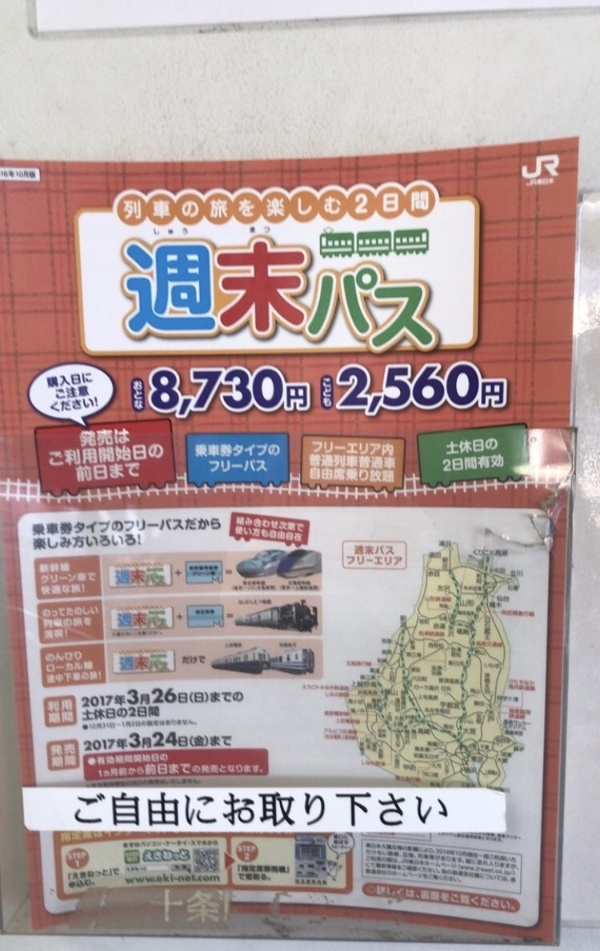text: (353, 532, 368, 798), (369, 532, 384, 798), (385, 532, 400, 798), (401, 532, 416, 798), (417, 532, 432, 798), (433, 532, 448, 798), (449, 532, 464, 798), (465, 532, 480, 798), (481, 532, 496, 798), (497, 532, 512, 798), (513, 532, 528, 798), (529, 532, 544, 798), (342, 532, 352, 798), (129, 242, 144, 333), (145, 242, 160, 333), (161, 242, 176, 333), (177, 242, 192, 333), (193, 242, 208, 333), (209, 242, 224, 333), (225, 242, 240, 333), (241, 242, 256, 333), (257, 242, 272, 333), (273, 242, 288, 333), (289, 242, 304, 333), (337, 267, 352, 349), (353, 267, 368, 349), (369, 267, 384, 349), (385, 267, 400, 349), (401, 267, 416, 349), (417, 267, 432, 349), (369, 836, 384, 914), (385, 836, 400, 914), (401, 836, 416, 914), (417, 836, 432, 914), (433, 836, 448, 914), (449, 836, 464, 914), (465, 836, 480, 914), (481, 836, 496, 914), (497, 836, 512, 914), (325, 267, 336, 349), (65, 834, 80, 891), (81, 834, 96, 891), (97, 834, 112, 891), (113, 834, 128, 891), (129, 834, 144, 891), (145, 834, 160, 891), (161, 834, 176, 891), (177, 834, 192, 891), (193, 834, 208, 891), (337, 836, 353, 888), (241, 836, 256, 888), (257, 836, 272, 888), (273, 836, 288, 888), (289, 836, 304, 888), (305, 836, 320, 888), (321, 836, 336, 888), (353, 364, 368, 415), (369, 364, 384, 415), (385, 364, 400, 415), (401, 364, 416, 415), (417, 364, 432, 415), (433, 364, 448, 415), (449, 364, 464, 415), (465, 364, 480, 415), (481, 364, 496, 415), (161, 369, 176, 417), (177, 369, 192, 417), (193, 369, 208, 417), (209, 369, 224, 417), (225, 369, 240, 417), (241, 369, 256, 417), (257, 369, 272, 417), (273, 369, 288, 417), (289, 369, 304, 417), (209, 834, 221, 891), (340, 364, 352, 415), (433, 795, 449, 830), (81, 795, 96, 830), (97, 795, 112, 830), (113, 795, 128, 830), (129, 795, 144, 830), (145, 795, 160, 830), (161, 795, 176, 830), (177, 795, 192, 830), (193, 795, 208, 830), (209, 795, 224, 830), (225, 795, 240, 830), (241, 795, 256, 830), (257, 795, 272, 830), (273, 795, 288, 830), (289, 795, 304, 830), (305, 795, 320, 830), (321, 795, 336, 830), (337, 795, 352, 830), (353, 795, 368, 830), (369, 795, 384, 830), (385, 795, 400, 830), (401, 795, 416, 830), (417, 795, 432, 830), (161, 889, 176, 924), (177, 889, 192, 924), (193, 889, 208, 924), (209, 889, 224, 924), (513, 836, 519, 914), (129, 192, 144, 221), (145, 192, 160, 221), (161, 192, 176, 221), (177, 192, 192, 221), (193, 192, 208, 221), (209, 192, 224, 221), (225, 192, 240, 221), (241, 192, 256, 221), (257, 192, 272, 221), (273, 192, 288, 221), (289, 192, 304, 221), (305, 192, 320, 221), (321, 192, 336, 221), (337, 192, 352, 221), (353, 192, 368, 221), (369, 192, 384, 221), (385, 192, 400, 221), (401, 192, 416, 221), (497, 364, 505, 415), (323, 378, 336, 408), (529, 156, 544, 180), (545, 156, 560, 180), (49, 444, 64, 468), (65, 444, 80, 468), (81, 444, 96, 468), (97, 444, 112, 468), (113, 444, 128, 468), (129, 444, 144, 468), (145, 444, 160, 468), (81, 684, 96, 708), (97, 684, 112, 708), (113, 684, 128, 708), (129, 684, 144, 708), (145, 684, 160, 708), (161, 684, 176, 708), (177, 684, 192, 708), (193, 684, 208, 708), (209, 684, 224, 708), (225, 684, 240, 708), (417, 192, 429, 221), (97, 729, 112, 752), (113, 729, 128, 752), (129, 729, 144, 752), (145, 729, 160, 752), (161, 729, 176, 752), (177, 729, 192, 752), (193, 729, 208, 752), (209, 729, 224, 752), (153, 369, 160, 417), (133, 380, 144, 410), (81, 462, 96, 484), (97, 462, 112, 484), (113, 462, 128, 484), (151, 889, 160, 924), (81, 428, 96, 448), (97, 428, 112, 448), (113, 428, 128, 448), (84, 729, 96, 752), (321, 453, 336, 471), (337, 453, 352, 471), (353, 453, 368, 471), (369, 453, 384, 471), (449, 438, 464, 456), (465, 438, 480, 456), (481, 438, 496, 456), (449, 454, 464, 472), (465, 454, 480, 472), (481, 454, 496, 472), (65, 396, 80, 413), (81, 396, 96, 413), (321, 467, 336, 484), (337, 467, 352, 484), (353, 467, 368, 484), (369, 467, 384, 484), (33, 519, 48, 536), (49, 519, 64, 536), (65, 519, 80, 536), (81, 519, 96, 536), (97, 519, 112, 536), (113, 519, 128, 536), (129, 519, 144, 536), (145, 519, 160, 536), (161, 519, 176, 536), (177, 519, 192, 536), (193, 519, 208, 536), (129, 462, 140, 484), (49, 373, 64, 389), (65, 373, 80, 389), (321, 441, 336, 457), (337, 441, 352, 457), (353, 441, 368, 457), (369, 441, 384, 457), (33, 536, 48, 552), (49, 536, 64, 552), (65, 536, 80, 552), (81, 536, 96, 552), (97, 536, 112, 552), (113, 536, 128, 552), (97, 705, 112, 721), (113, 705, 128, 721), (129, 705, 144, 721), (145, 705, 160, 721), (113, 761, 128, 777), (129, 761, 144, 777), (145, 761, 160, 777), (161, 761, 176, 777), (177, 761, 192, 777), (193, 761, 208, 777), (209, 761, 224, 777), (225, 761, 240, 777), (241, 761, 256, 777), (129, 569, 145, 584), (129, 612, 144, 628), (129, 656, 144, 672), (65, 385, 80, 400), (209, 444, 224, 459), (225, 444, 240, 459), (241, 444, 256, 459), (257, 444, 272, 459), (97, 752, 112, 767), (113, 752, 128, 767), (129, 752, 144, 767), (145, 752, 160, 767), (51, 396, 64, 413), (225, 889, 231, 924), (83, 705, 96, 721), (99, 761, 112, 777), (209, 519, 221, 536), (309, 453, 320, 471), (385, 453, 396, 471), (146, 572, 160, 586), (195, 444, 208, 459), (209, 460, 224, 473), (225, 460, 240, 473), (241, 460, 256, 473), (49, 572, 64, 585), (65, 572, 80, 585), (81, 572, 96, 585), (49, 583, 64, 596), (65, 583, 80, 596), (49, 616, 64, 629), (65, 616, 80, 629), (49, 700, 64, 713), (81, 373, 93, 389), (129, 536, 141, 552), (126, 242, 128, 333), (49, 606, 64, 618), (65, 606, 80, 618), (81, 606, 96, 618), (49, 661, 64, 673), (65, 661, 80, 673), (49, 672, 64, 684), (65, 672, 80, 684), (81, 672, 96, 684), (49, 712, 64, 724), (116, 569, 128, 584), (193, 564, 208, 576), (241, 580, 256, 592), (257, 580, 272, 592), (117, 612, 128, 628), (61, 834, 64, 891), (310, 467, 320, 484), (51, 743, 64, 756), (529, 177, 544, 188), (49, 629, 64, 640), (97, 720, 112, 731), (113, 720, 128, 731), (129, 720, 144, 731), (145, 720, 160, 731), (161, 720, 176, 731), (177, 720, 192, 731), (369, 544, 384, 555), (225, 729, 232, 752), (237, 836, 240, 888), (82, 720, 96, 731), (354, 544, 368, 555), (1, 170, 16, 180), (17, 170, 32, 180), (49, 564, 64, 574), (49, 652, 64, 662), (65, 652, 80, 662), (289, 580, 304, 590), (353, 556, 368, 566), (369, 556, 384, 566), (385, 556, 400, 566), (305, 369, 308, 417), (81, 661, 93, 673), (52, 756, 64, 768), (65, 756, 77, 768), (81, 616, 92, 629), (65, 743, 76, 756), (305, 580, 319, 590), (385, 467, 393, 484), (81, 385, 90, 400), (149, 616, 160, 628), (257, 460, 267, 473), (161, 659, 171, 672), (385, 441, 393, 457), (120, 656, 128, 672), (497, 454, 504, 472), (523, 156, 528, 180), (56, 385, 64, 400), (88, 752, 96, 767), (161, 752, 169, 767), (177, 613, 192, 621), (241, 598, 256, 606), (257, 598, 272, 606), (151, 659, 160, 672), (124, 192, 128, 221), (313, 441, 320, 457), (257, 761, 264, 777), (545, 177, 555, 188), (75, 462, 80, 484), (209, 564, 218, 576), (193, 655, 205, 664), (273, 444, 280, 459), (77, 795, 80, 830), (65, 700, 73, 713), (385, 544, 394, 555), (65, 712, 73, 724), (161, 616, 169, 628), (305, 242, 306, 333), (41, 572, 48, 585), (41, 583, 48, 596), (443, 454, 448, 472), (182, 655, 192, 664), (225, 569, 240, 575), (225, 642, 240, 648), (161, 572, 167, 586), (233, 580, 240, 592), (433, 267, 434, 349), (40, 564, 48, 574), (280, 580, 288, 590), (367, 836, 368, 914), (161, 444, 164, 468), (42, 606, 48, 618), (241, 684, 244, 708), (195, 610, 208, 615), (145, 656, 149, 672), (81, 583, 85, 596), (44, 616, 48, 629), (227, 613, 240, 617), (65, 564, 70, 574), (347, 556, 352, 566), (97, 672, 101, 684), (145, 612, 148, 628), (177, 569, 182, 578), (44, 629, 48, 640), (193, 720, 197, 731), (33, 170, 37, 180), (280, 643, 288, 648), (289, 643, 297, 648), (189, 564, 192, 576), (273, 580, 276, 592), (97, 396, 99, 413), (65, 629, 68, 640), (46, 373, 48, 389), (45, 652, 48, 662), (209, 610, 214, 615), (97, 606, 99, 618), (129, 428, 130, 448), (447, 438, 448, 456), (497, 438, 498, 456), (47, 661, 48, 673), (47, 672, 48, 684), (241, 642, 243, 648), (527, 177, 528, 188), (81, 652, 82, 662), (401, 556, 402, 566), (175, 569, 176, 578), (239, 598, 240, 606)
